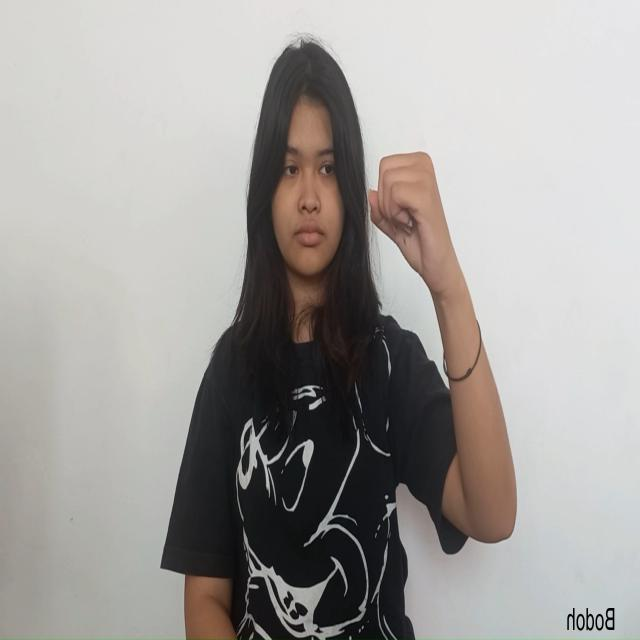Bodoh -BISINDO-: (366, 148, 452, 290)
